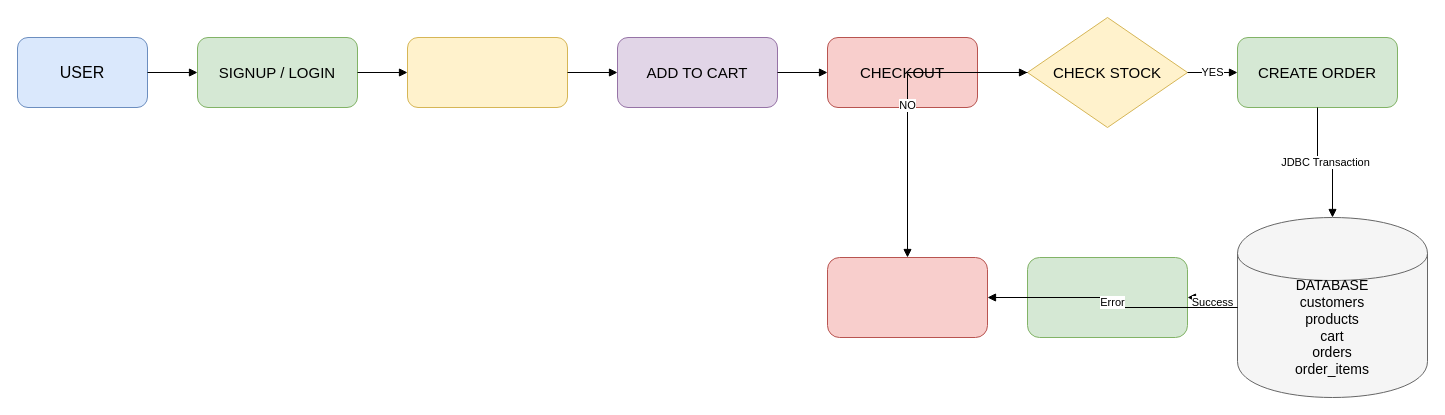
Image size: 1445x415. Some labels were removed from this diagram. The box of each missing label's shape, as (x1, y1, x2, y2) in pixels:
COMMIT ORDER SUCCESSFUL: (1026, 256, 1188, 338)
ROLLBACK ORDER FAILED: (826, 256, 988, 338)
VIEW PRODUCTS: (406, 36, 568, 108)
